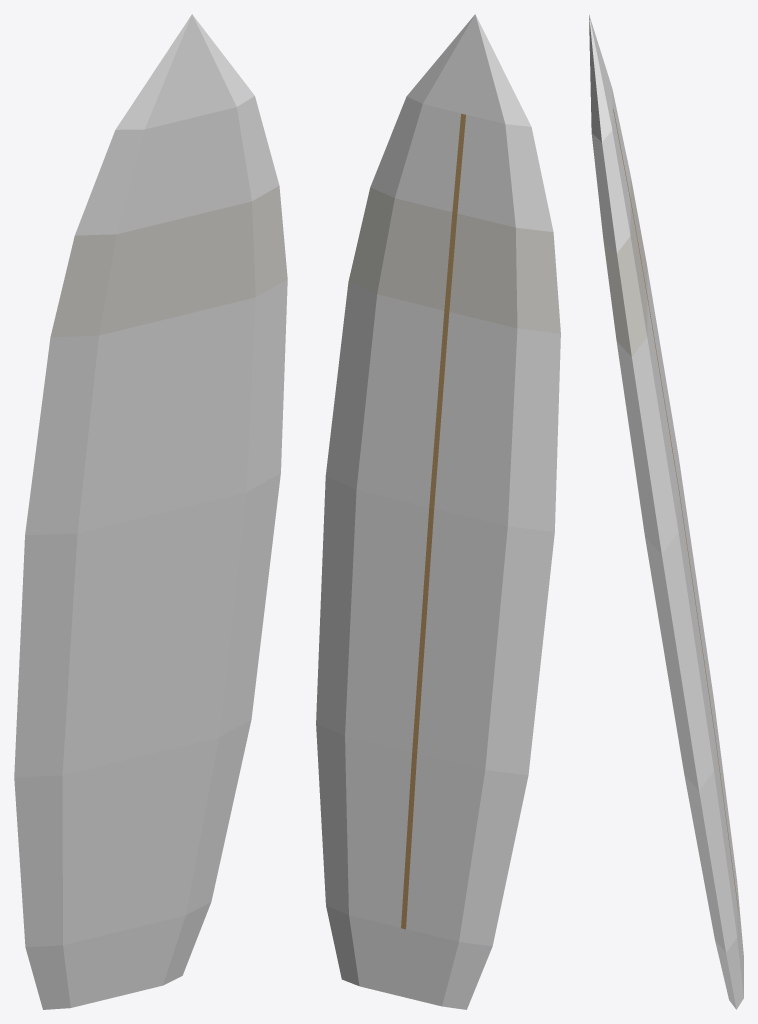
File: prop_surfboard.glb
3 renders of one model, left to right at view 1: azimuth 30°, elevation 25°; view 2: azimuth 150°, elevation 25°; view 3: azimuth 270°, elevation 25°, orthographic. The views are drawn at different scales.
Parts seen in each view (by area): view 1: prop_surfboard__mesh; view 2: prop_surfboard__mesh; view 3: prop_surfboard__mesh.
Boxes of the visible parts, x1,y1,x2,y2 form: prop_surfboard__mesh: (14,14,287,1009); prop_surfboard__mesh: (316,14,560,1009); prop_surfboard__mesh: (589,14,743,1009).
Size of the model in its own units: 0.55 by 2.13 by 0.3101.
1 material, 1 textured.
